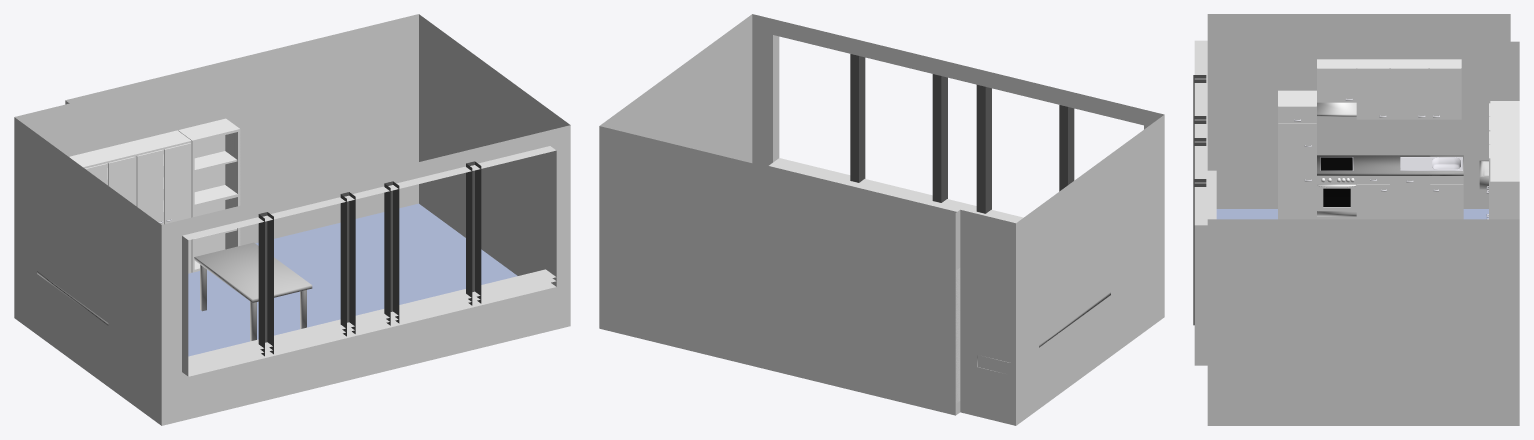
3 views of the same model, side by side, from view 1: azimuth 30°, elevation 25°; view 2: azimuth 150°, elevation 25°; view 3: azimuth 270°, elevation 25° (orthographic). The views are drawn at different scales.
Parts seen in each view (by area): view 1: Walls; view 2: Walls; view 3: Walls.
Boxes of the visible parts, box(x1,y1,x2,y2) form: Walls: box(14, 14, 570, 425); Walls: box(599, 14, 1164, 425); Walls: box(1193, 14, 1519, 425).
Size of the model in its own units: 7.45 by 5.01 by 3.5.
